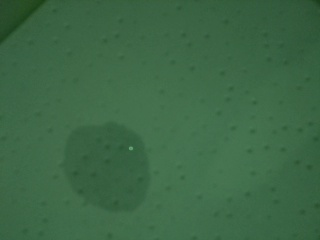Water_detected: (74, 130, 136, 209)
